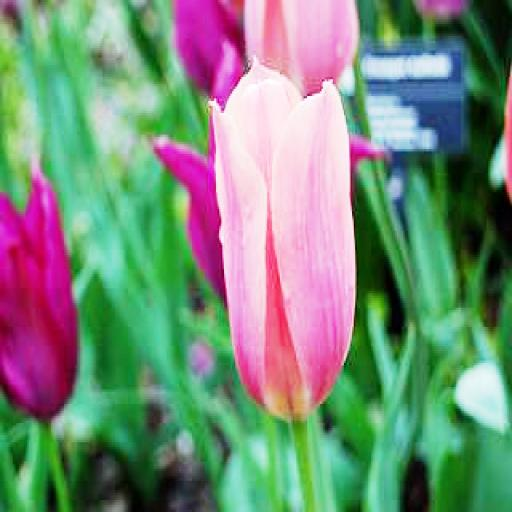tulip: (208, 58, 357, 416)
